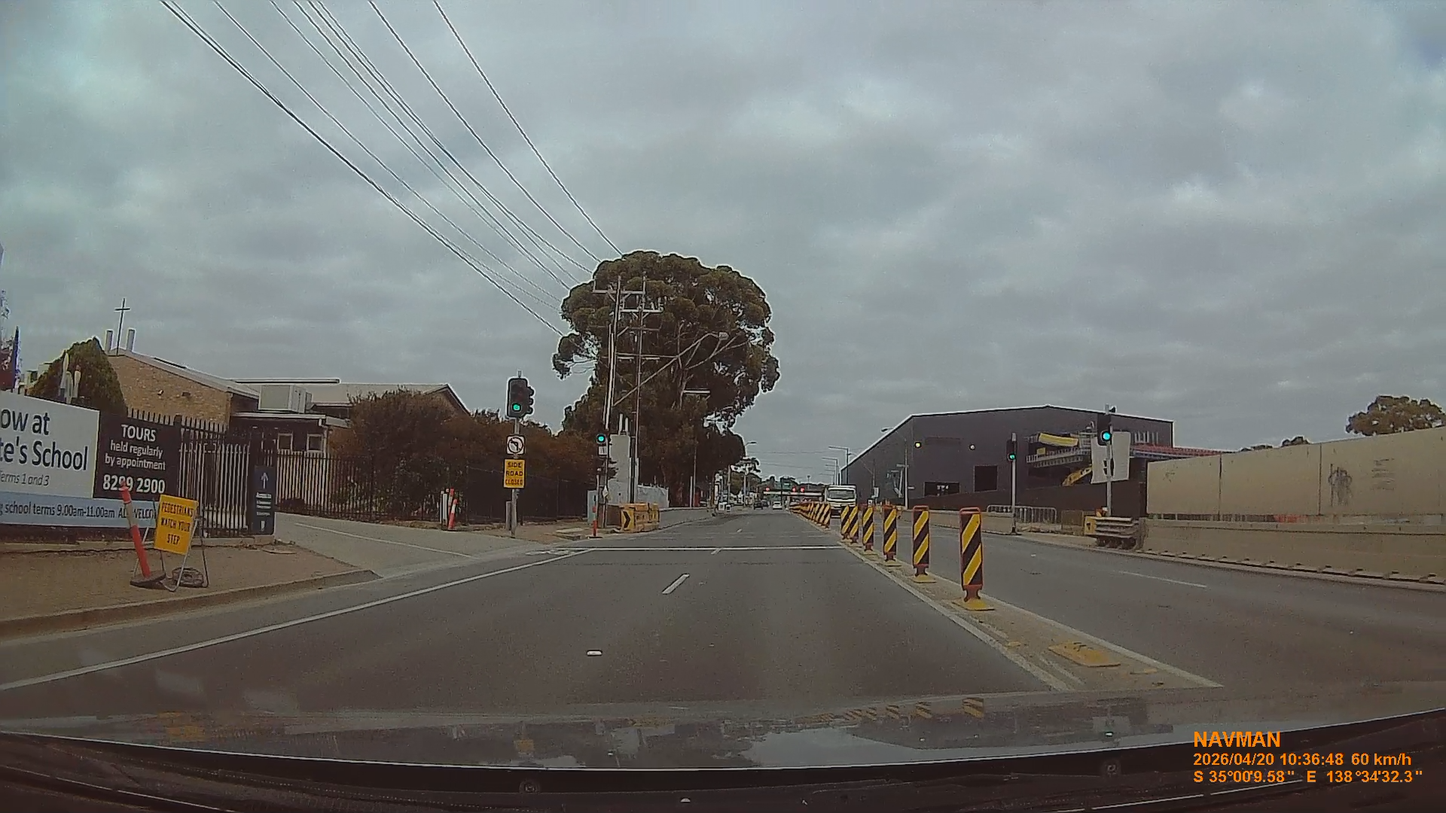fences: (1113, 429, 1445, 525)
road barriers: (793, 504, 901, 543)
